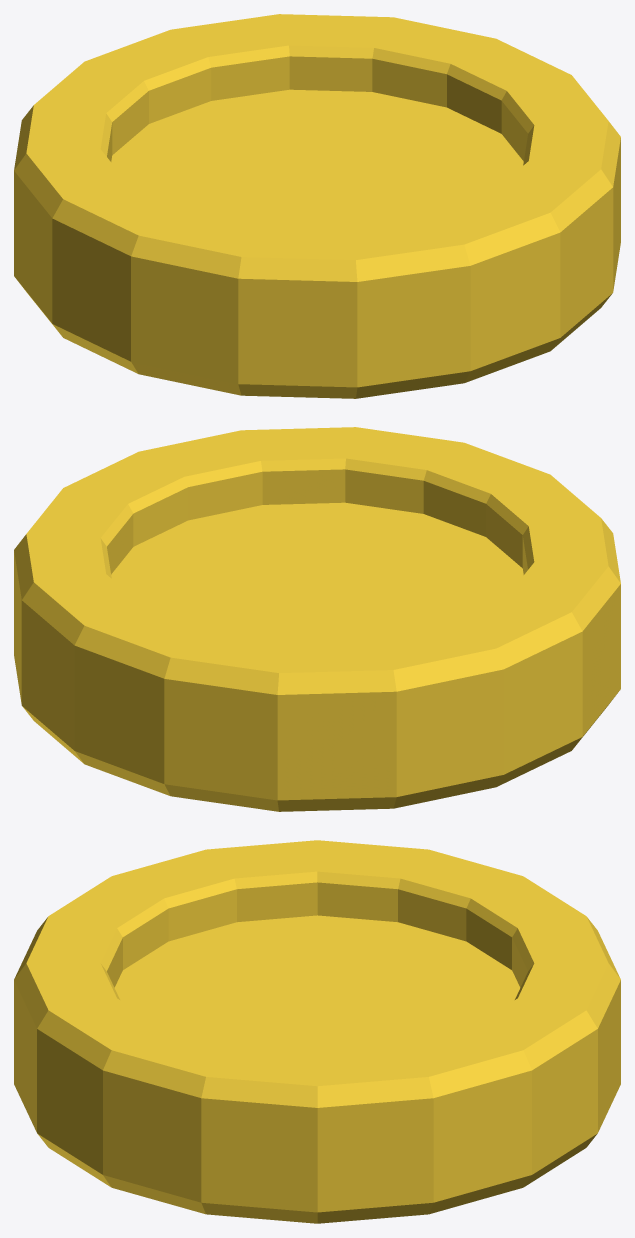
File: Coin.fbx
The picture shows the model from 3 angles, top to bottom: view 1: azimuth 30°, elevation 25°; view 2: azimuth 150°, elevation 25°; view 3: azimuth 270°, elevation 25°; orthographic projection.
Parts seen in each view (by area): view 1: Coin; view 2: Coin; view 3: Coin.
Boxes of the visible parts, bbox=[...] form: Coin: bbox=[14, 14, 620, 398]; Coin: bbox=[14, 427, 620, 811]; Coin: bbox=[14, 840, 620, 1223].
Bounding box in the file's own units: 400 × 100 × 400.
